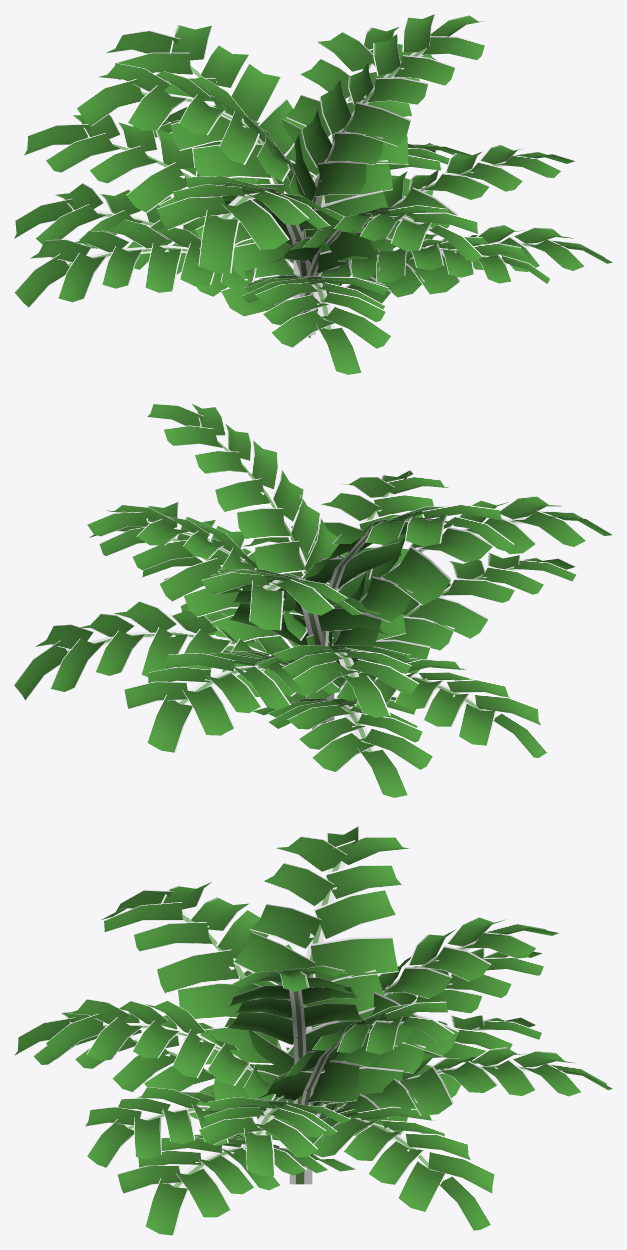
The model's file is Plant_06.glb.
The picture shows the model from 3 angles, top to bottom: view 1: azimuth 30°, elevation 25°; view 2: azimuth 150°, elevation 25°; view 3: azimuth 270°, elevation 25°; orthographic projection. The views are drawn at different scales.
Visible parts, largest first — view 1: Plant_06_LOD0; view 2: Plant_06_LOD0; view 3: Plant_06_LOD0.
Boxes of the visible parts, x1,y1,x2,y2 form: Plant_06_LOD0: [14, 14, 612, 374]; Plant_06_LOD0: [14, 403, 612, 797]; Plant_06_LOD0: [14, 826, 612, 1235].
Size of what is drawn, in the model's own units: 0.7451 by 0.4089 by 0.7718.
1 material, 1 textured.
